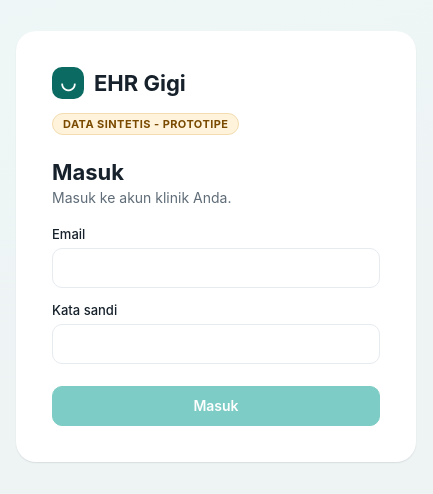
Test case: password step then 6-digit authenticator step
This screenshot has width=433, height=494.
Later steps or results of the test are not shown.
Type "depan@senyum.test" into the field labelled "Email" at (216, 268), box [52,248,380,288]
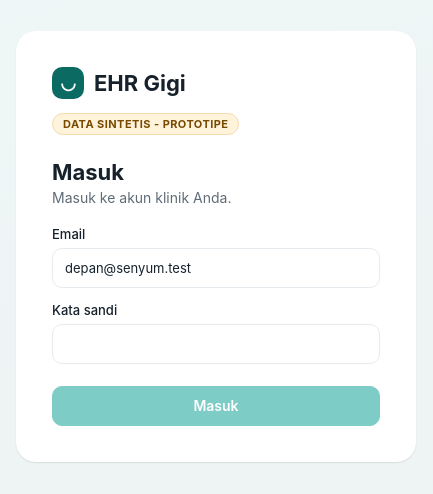
Type "rahasia-dev-123" into the password field labelled "Kata sandi" at (216, 344), box [52,324,380,364]
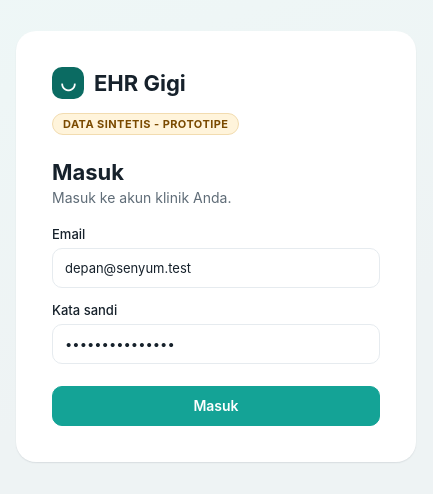
Click the button "Masuk" at (216, 406), box [52,386,380,426]
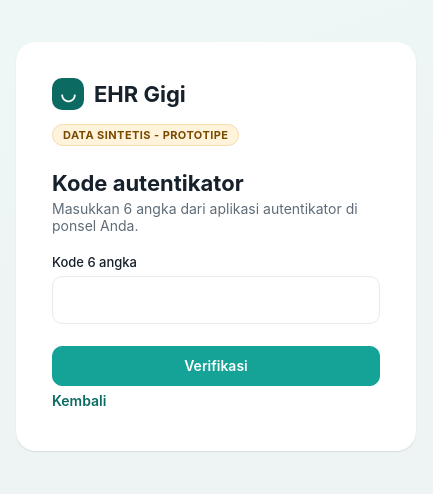
Result: the heading "Kode autentikator" is shown at [52,170,244,196]
Type "000000" into the field labelled "Kode 6 angka" at (216, 300), box [52,276,380,324]
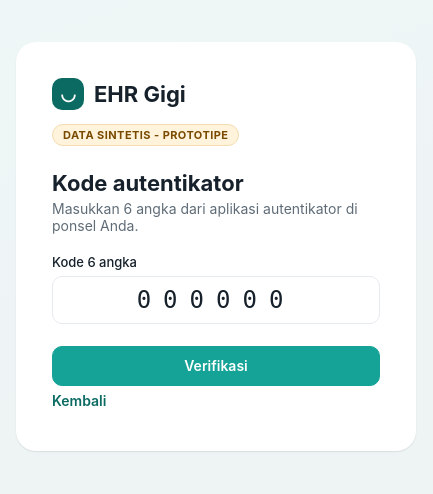
Click the button "Verifikasi" at (216, 366), box [52,346,380,386]
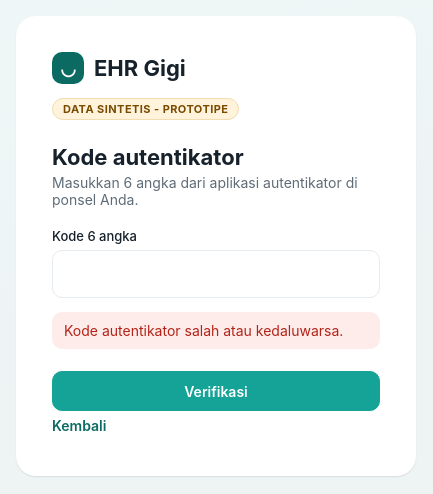
Result: the text "Kode autentikator salah atau kedaluwarsa." is shown at [52,312,380,349]
